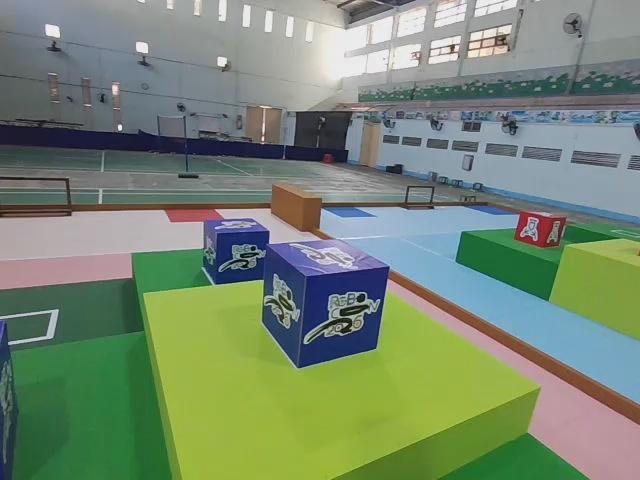R1 Blue: (264, 240, 391, 372), (201, 220, 270, 288)
